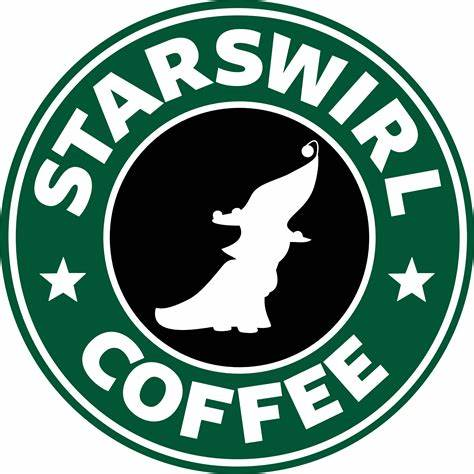starbucks Fake: (6, 3, 474, 474)
